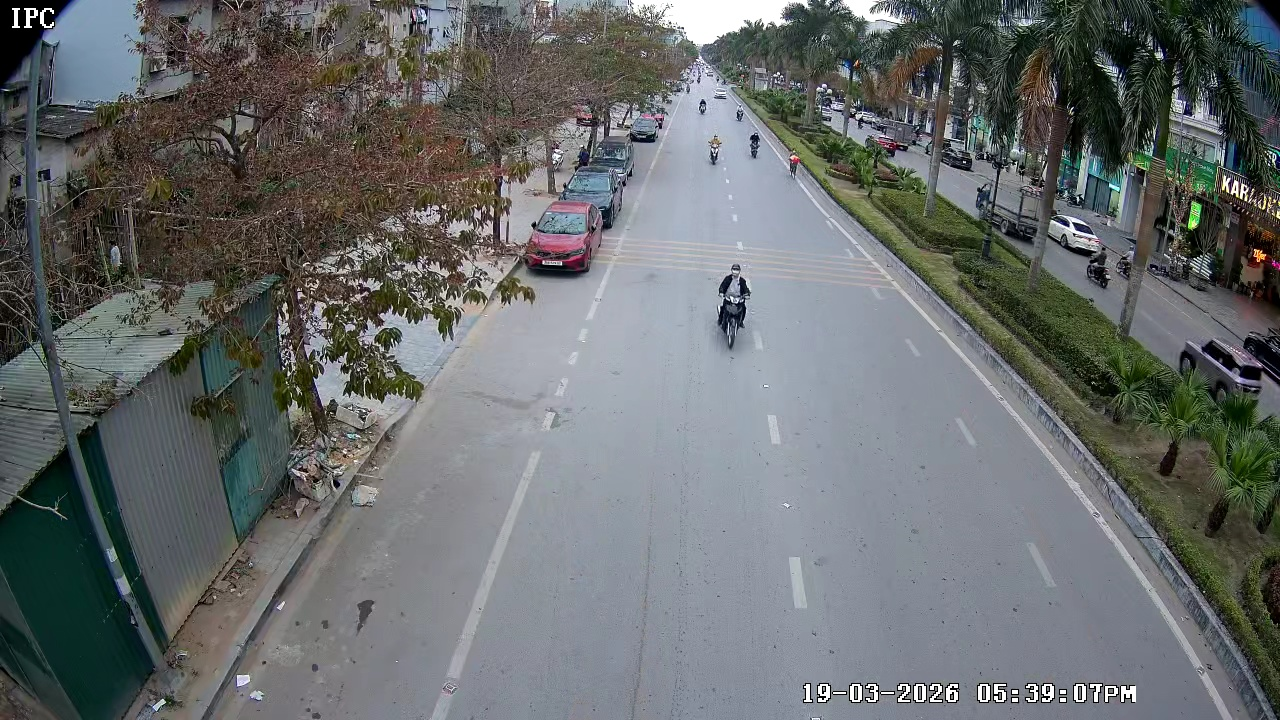car: (524, 200, 598, 276)
motorbike: (712, 262, 754, 350), (705, 130, 723, 167), (751, 131, 761, 158), (698, 98, 708, 117), (736, 104, 747, 121)
